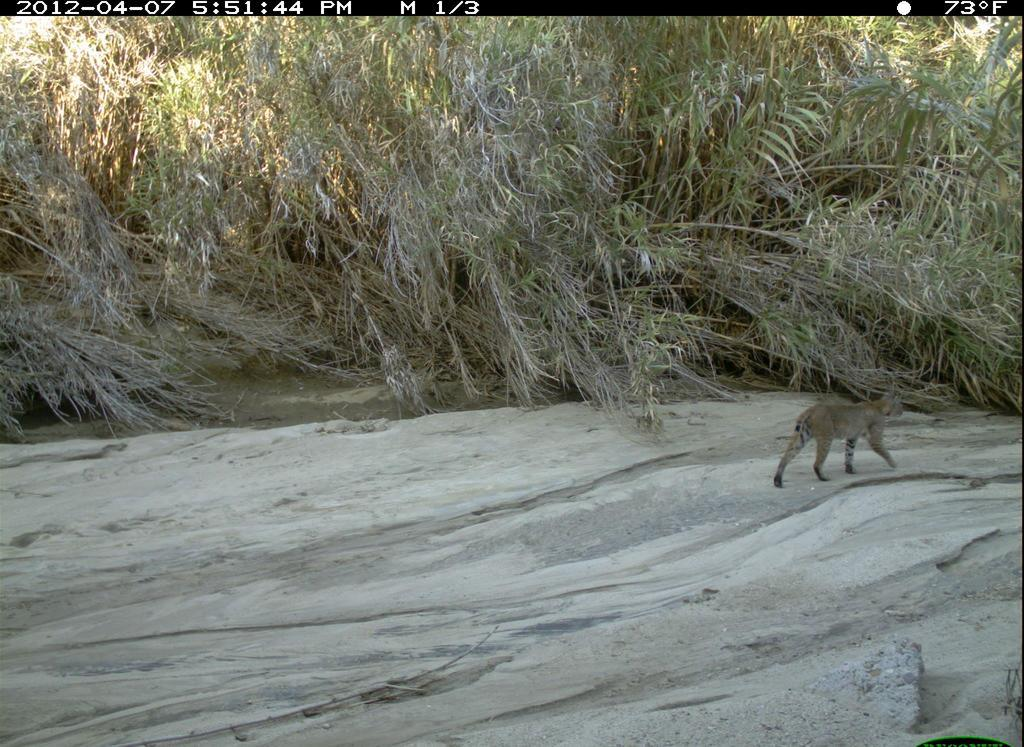bobcat: (768, 382, 919, 502)
